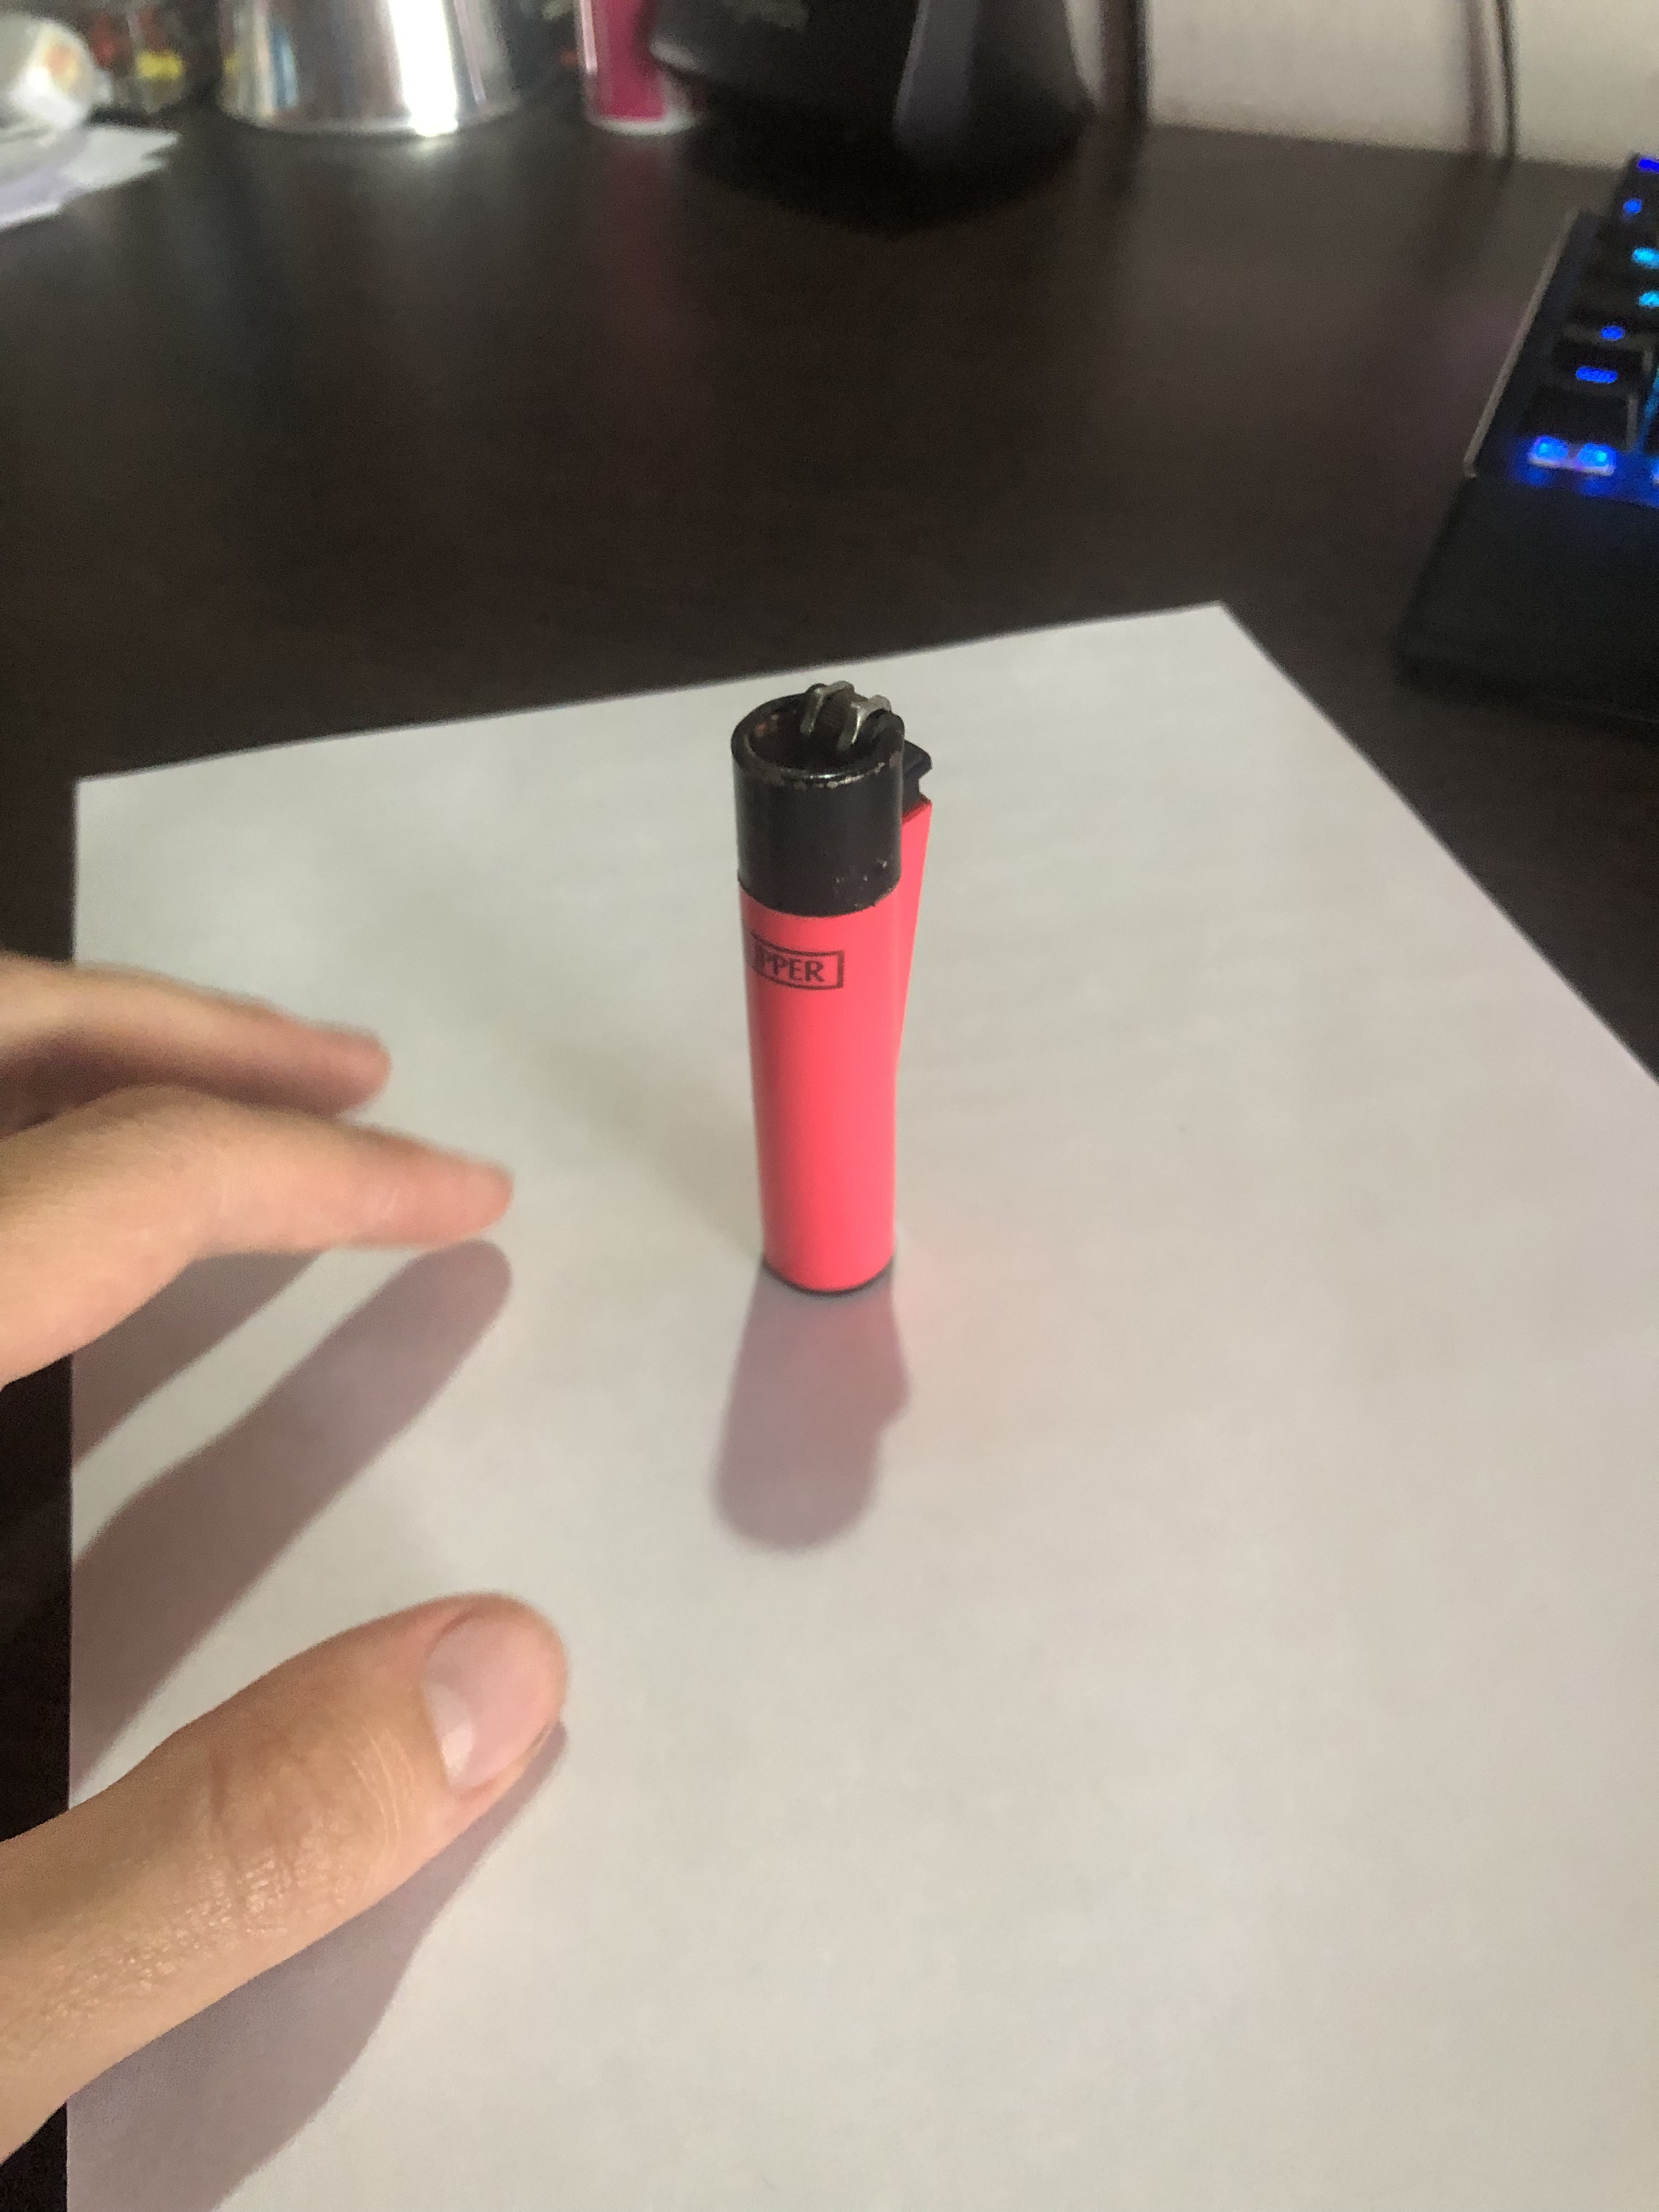Mechero: (711, 679, 934, 1299)
